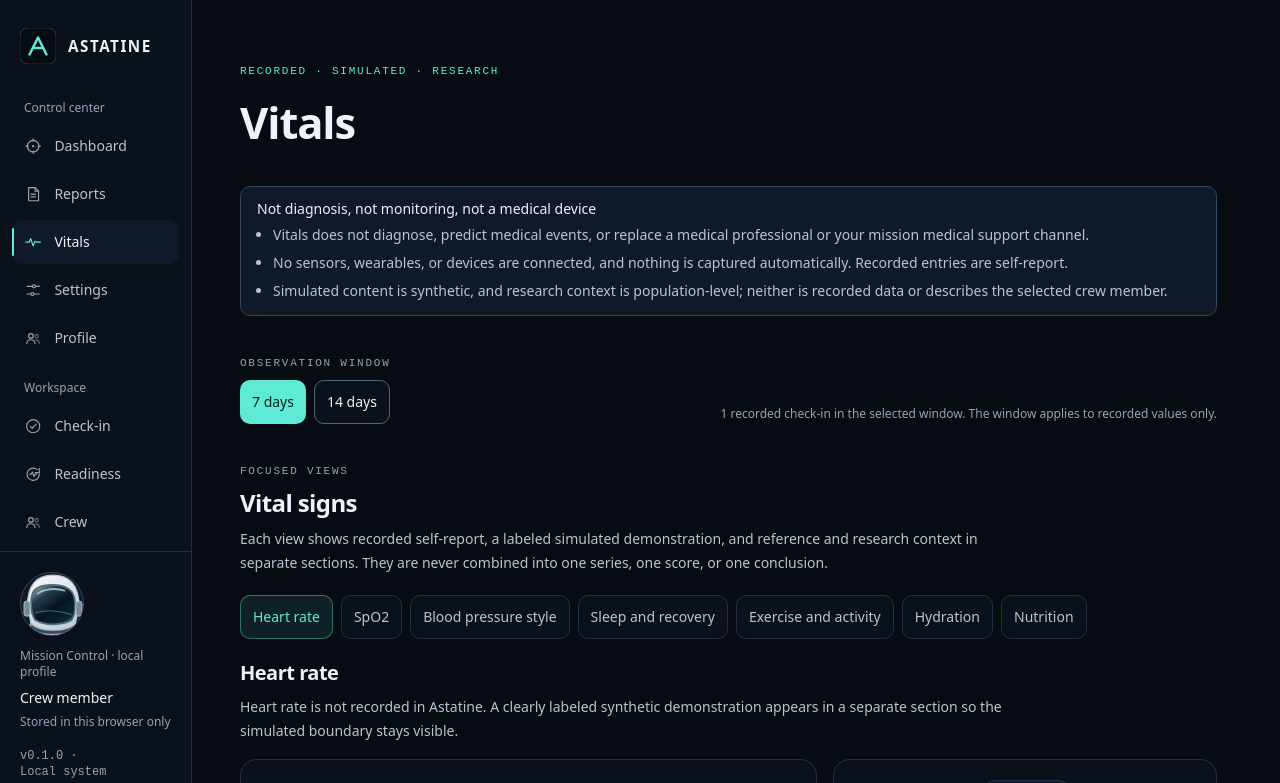
Test: VitalsPage › applies the 7- and 14-day window to recorded values
expect the text "1 recorded check-in in the selected window" is shown: met, box [720,404,1217,424]
Step 1. Click the button "14 days" → [352, 402], box [314,380,390,424]
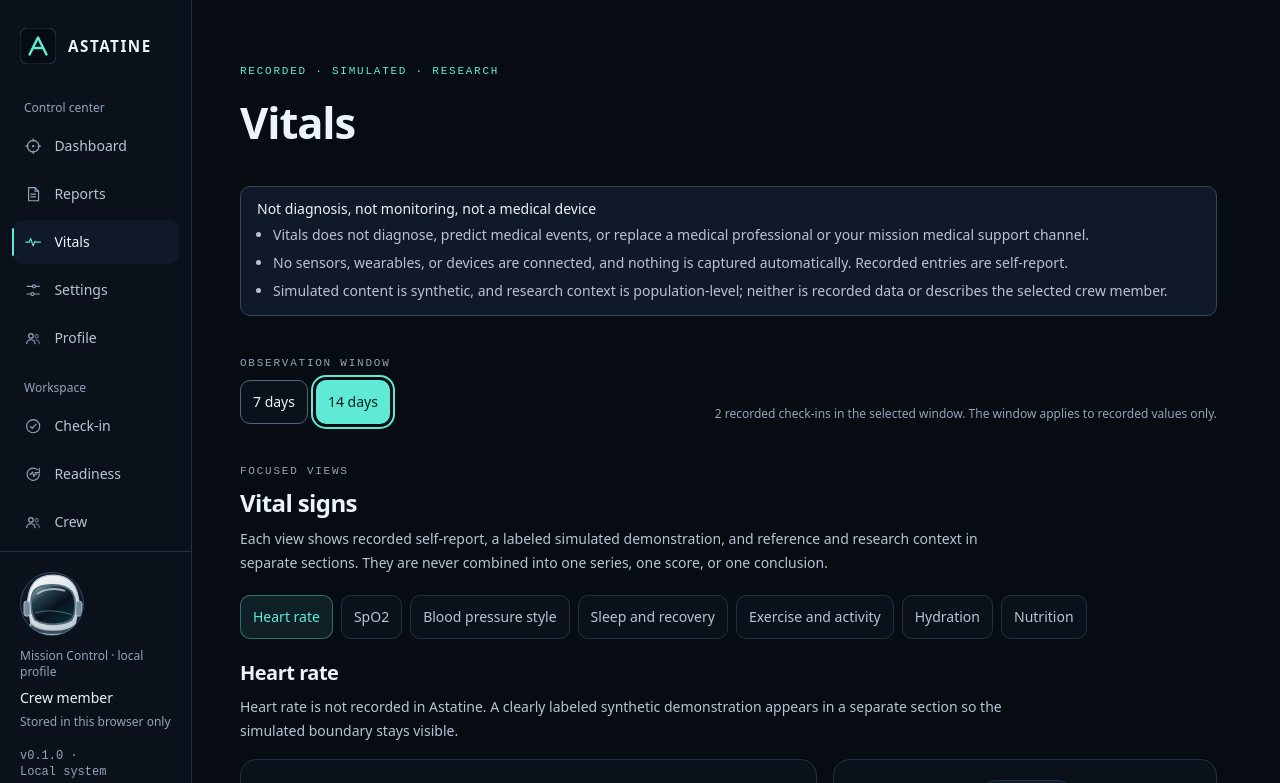
expect the text "2 recorded check-ins in the selected window" is shown: met, box [715,404,1217,424]
